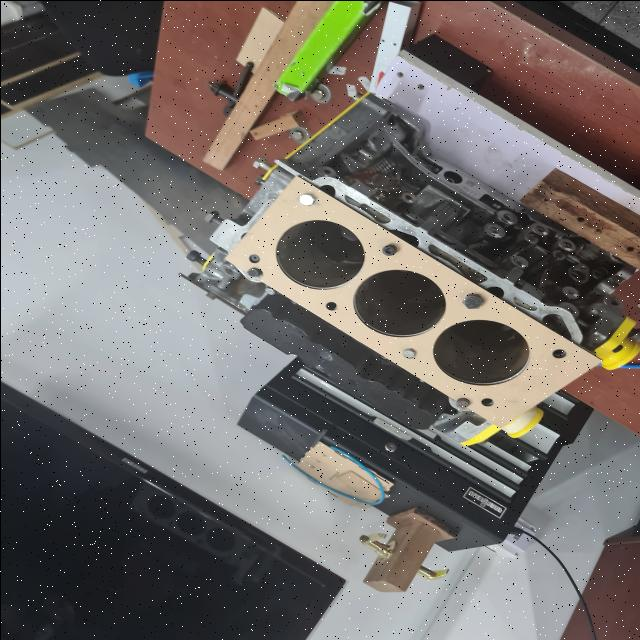vista1: (223, 175, 600, 426)
